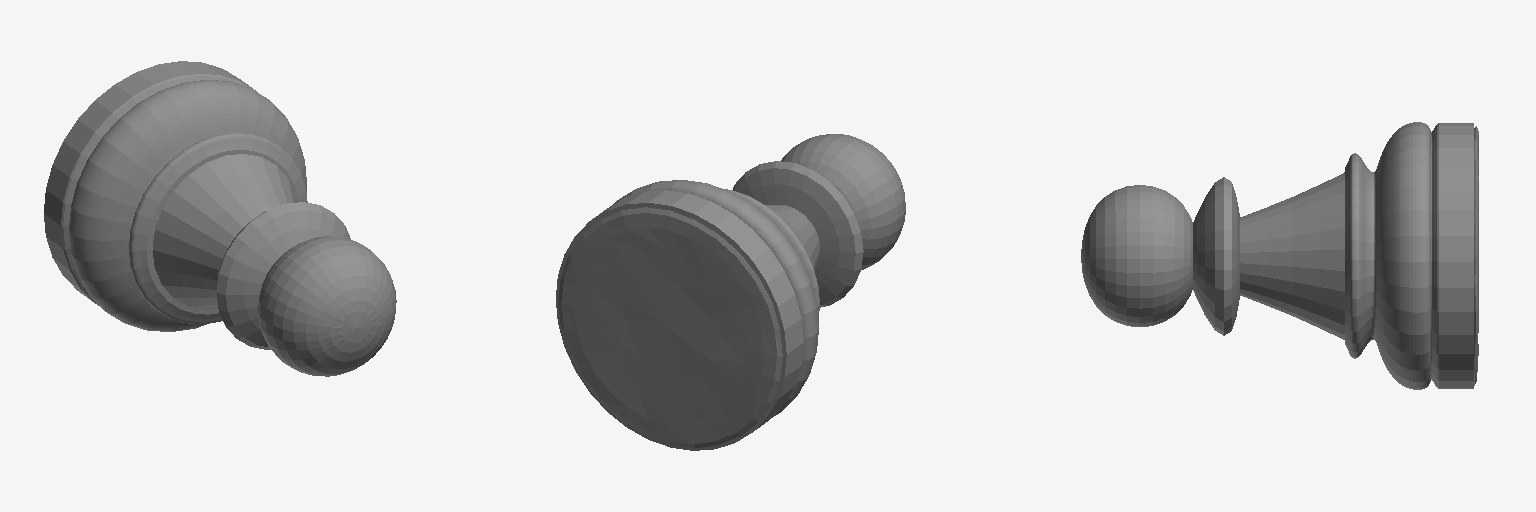
The model's file is pawn.obj.
3 views of the same model, side by side, from view 1: azimuth 30°, elevation 25°; view 2: azimuth 150°, elevation 25°; view 3: azimuth 270°, elevation 25° (orthographic).
Parts seen in each view (by area): view 1: pawn; view 2: pawn_, pawn; view 3: pawn, pawn_.
Part boxes in pixels (x1,y1,x2,y2): pawn: (44, 61, 396, 376); pawn_: (558, 207, 782, 447); pawn: (556, 134, 905, 450); pawn: (1081, 122, 1473, 389); pawn_: (1474, 126, 1478, 385).
Size of the model in its own units: 36.74 by 36.74 by 54.62.